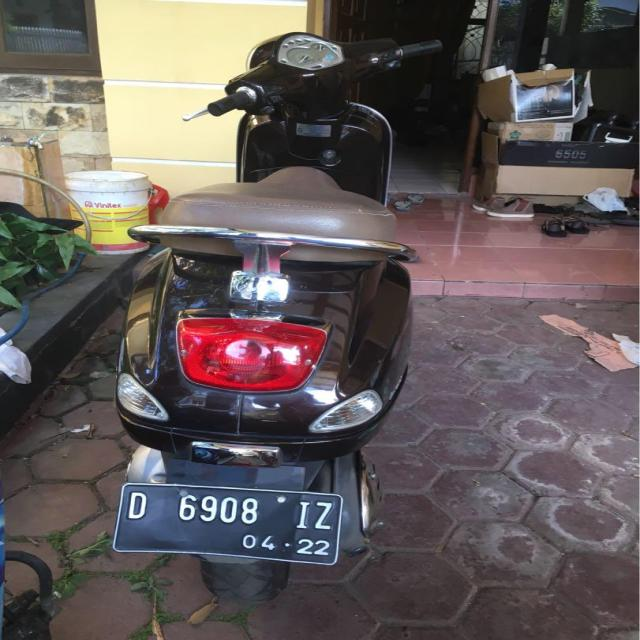plate: (122, 484, 344, 562)
